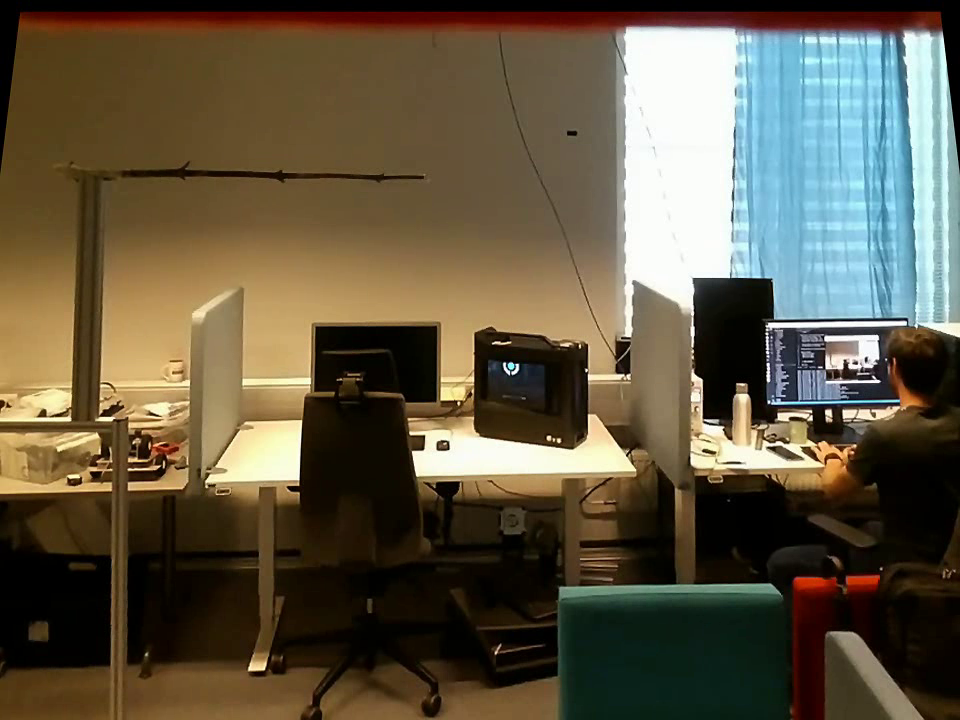aluminum_frame: (65, 177, 103, 418), (102, 412, 130, 719), (0, 402, 117, 436)
branch: (128, 156, 417, 188)
